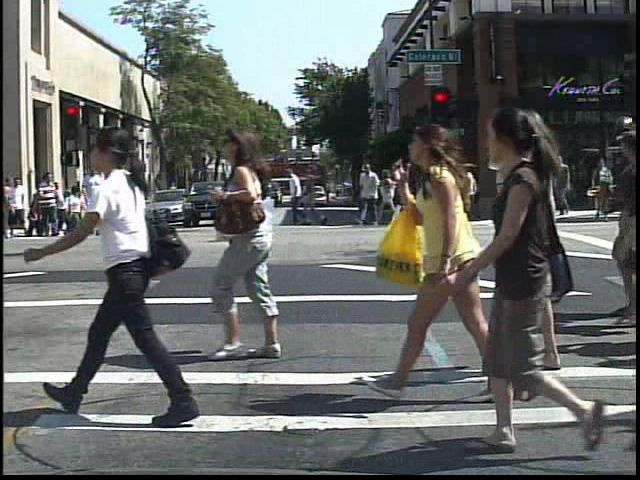person: (442, 96, 629, 463), (34, 116, 192, 433), (187, 118, 314, 364), (480, 106, 592, 376), (393, 117, 493, 402), (489, 152, 522, 224), (34, 165, 61, 238), (6, 172, 29, 242), (79, 160, 109, 212), (103, 176, 123, 215), (165, 175, 183, 213)
